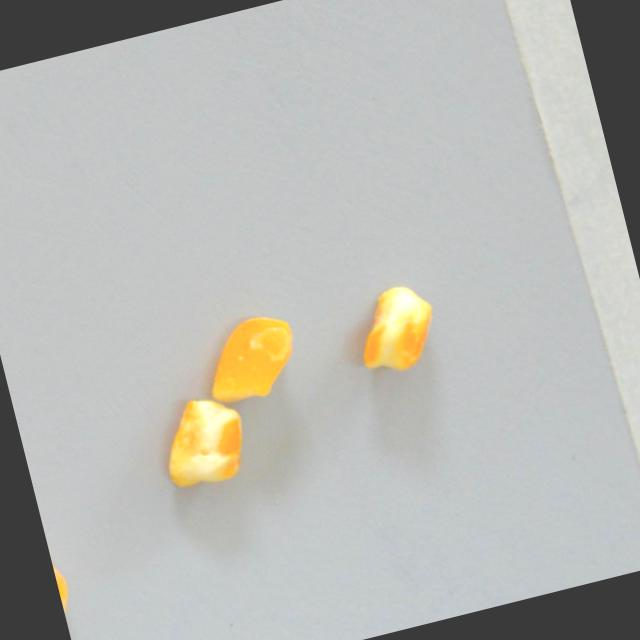pelicula: (194, 306, 307, 412), (152, 390, 255, 495), (346, 277, 447, 382), (38, 509, 78, 626)
